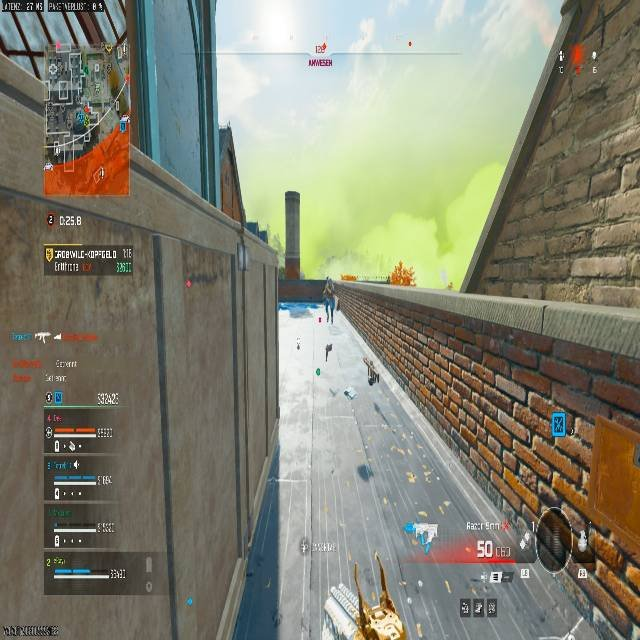player: (319, 278, 337, 324), (387, 259, 416, 286)
